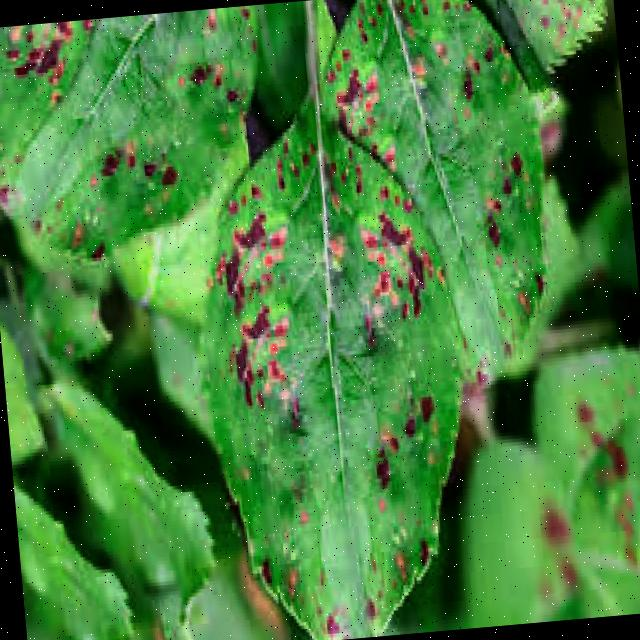leaf spot: (179, 111, 490, 640)
